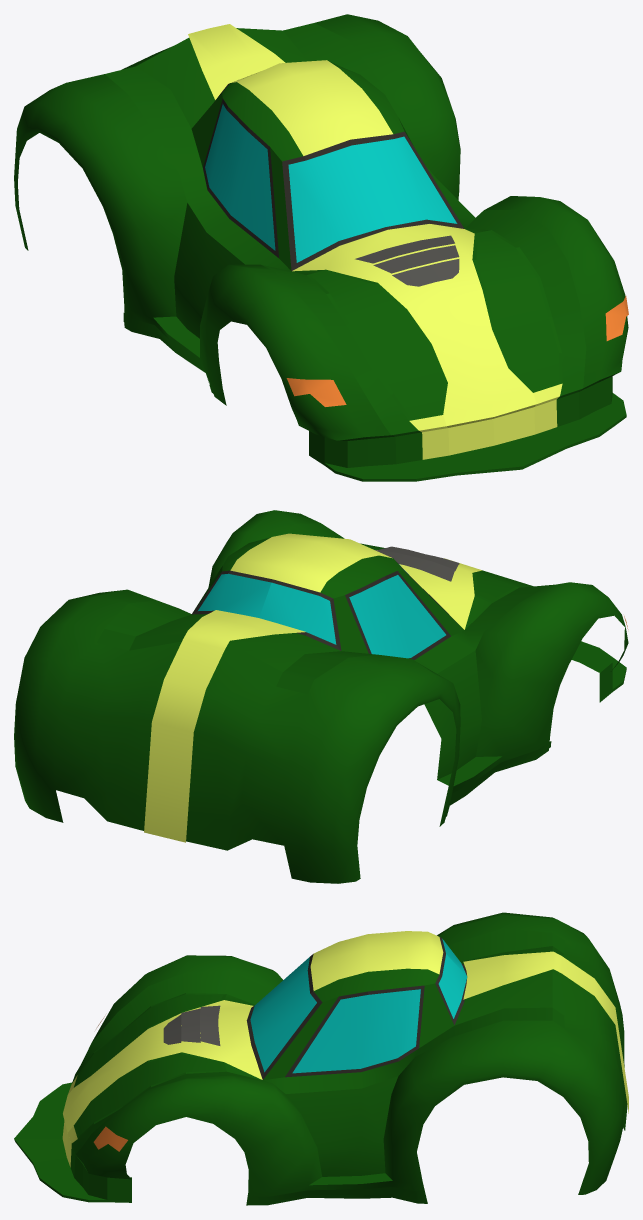
Rendered from LuxCasing00R02.gltf.
3 renders of one model, top to bottom at view 1: azimuth 30°, elevation 25°; view 2: azimuth 150°, elevation 25°; view 3: azimuth 270°, elevation 25°, orthographic. The views are drawn at different scales.
Parts seen in each view (by area): view 1: LuxCasing00R02; view 2: LuxCasing00R02; view 3: LuxCasing00R02.
Part boxes in pixels (box(x1,y1,x2,y2)): LuxCasing00R02: box(14, 14, 628, 481); LuxCasing00R02: box(14, 510, 628, 883); LuxCasing00R02: box(14, 912, 628, 1205).
Bounding box in the file's own units: 0.2129 × 0.129 × 0.366.
1 material, 1 textured.
